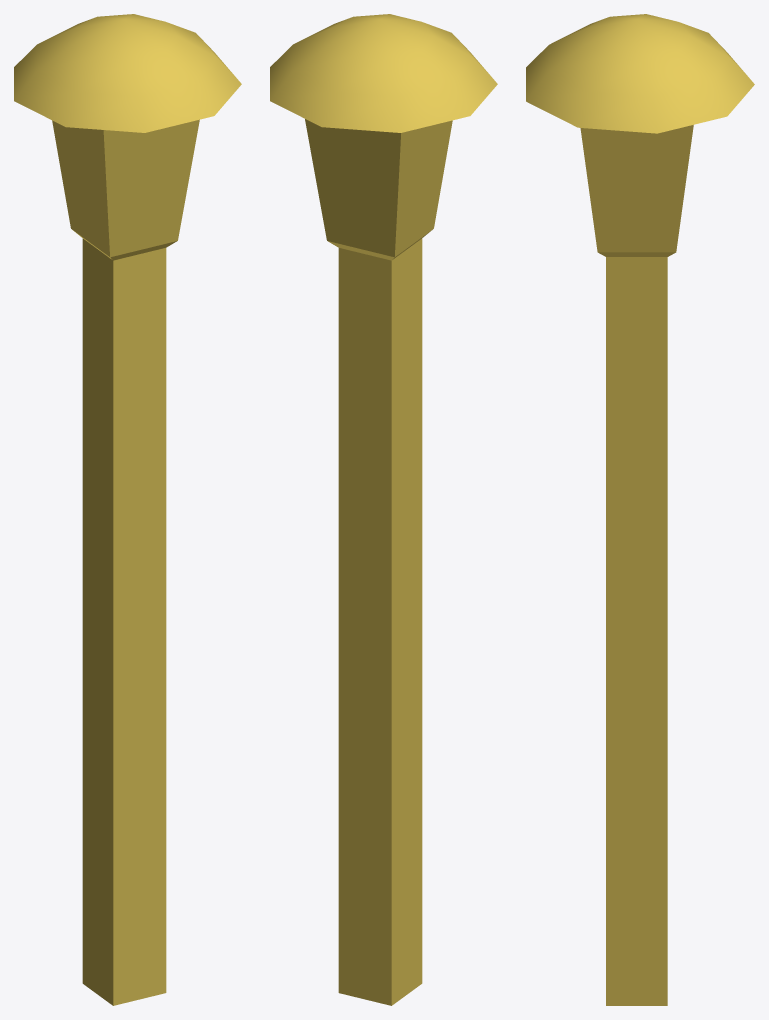
The model's file is Lamp.obj.
3 views of the same model, side by side, from view 1: azimuth 30°, elevation 25°; view 2: azimuth 150°, elevation 25°; view 3: azimuth 270°, elevation 25° (orthographic).
Parts seen in each view (by area): view 1: default; view 2: default; view 3: default.
Boxes of the visible parts, x1,y1,x2,y2 form: default: [14, 14, 241, 1005]; default: [270, 14, 497, 1005]; default: [526, 14, 754, 1005].
Bounding box in the file's own units: 1.97 × 9.1 × 1.94.
